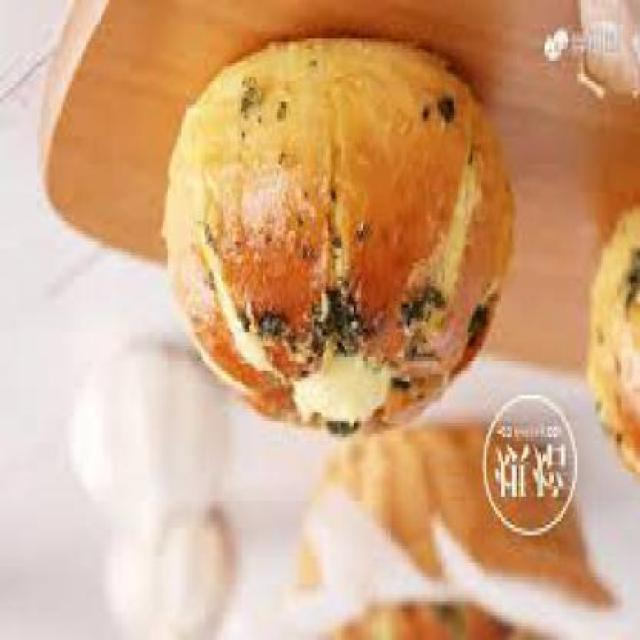BIODEGRADABLE: (169, 41, 512, 432), (588, 206, 640, 473)
